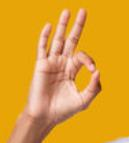left: (27, 7, 101, 125)
